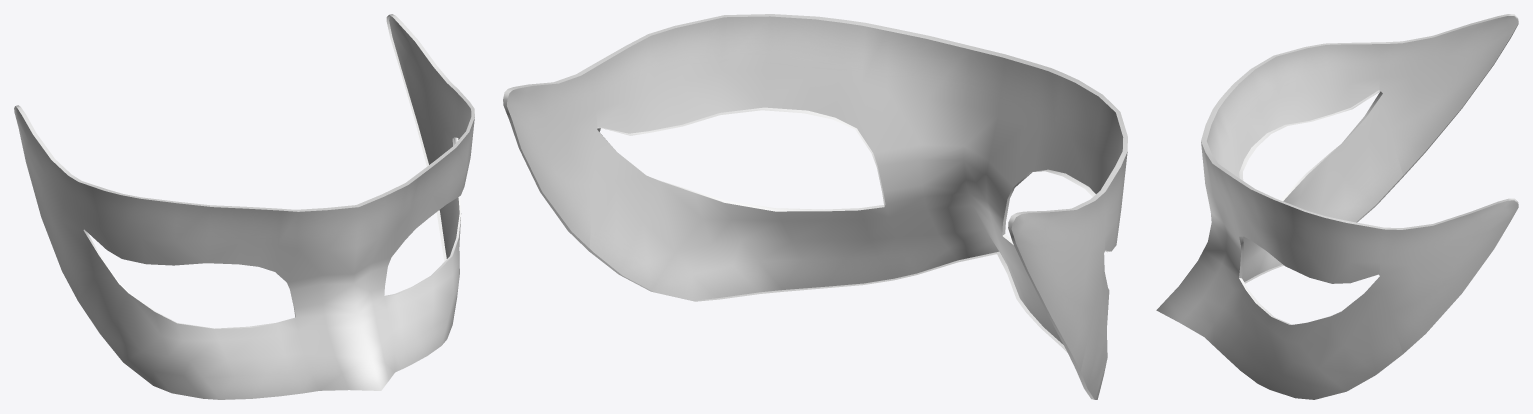
File: white_mask.glb
3 renders of one model, left to right at view 1: azimuth 30°, elevation 25°; view 2: azimuth 150°, elevation 25°; view 3: azimuth 270°, elevation 25°, orthographic. The views are drawn at different scales.
Visible parts, largest first — view 1: WhiteMask; view 2: WhiteMask; view 3: WhiteMask.
Boxes of the visible parts, x1=… form: WhiteMask: x1=14, y1=14, x2=474, y2=399; WhiteMask: x1=503, y1=14, x2=1127, y2=399; WhiteMask: x1=1156, y1=14, x2=1518, y2=399.
Size of the model in its own units: 0.168 by 0.0916 by 0.1354.
Materials: 1 (1 with a texture image).
